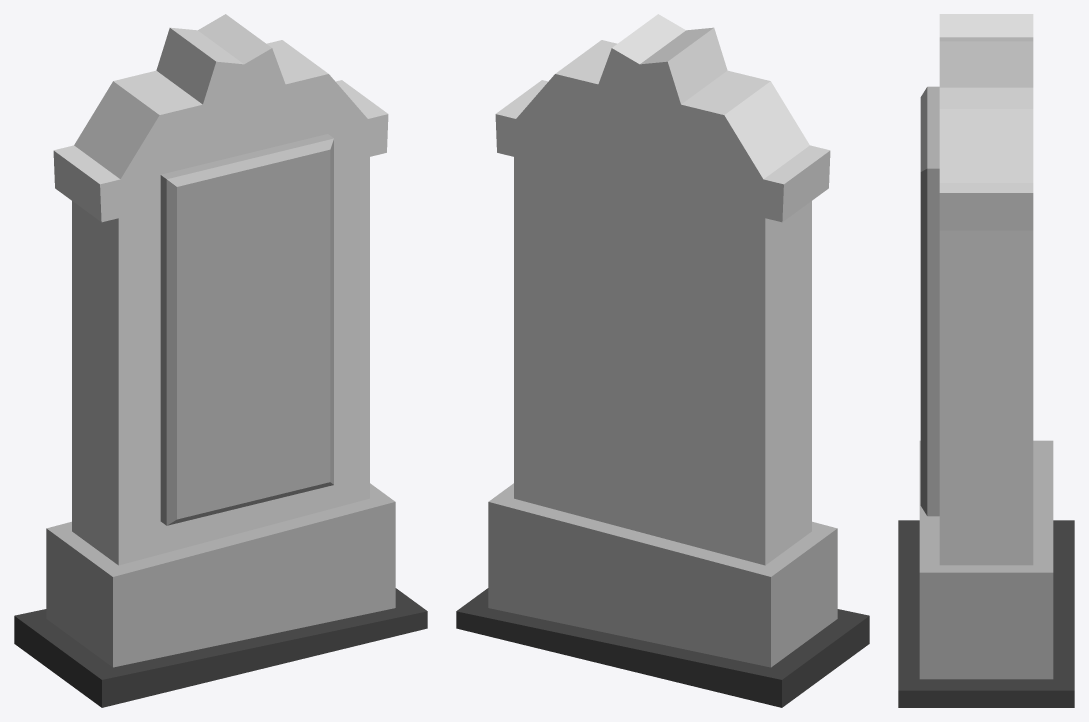
The model's file is HWN20_Grave_04.glb.
The picture shows the model from 3 angles, left to right: view 1: azimuth 30°, elevation 25°; view 2: azimuth 150°, elevation 25°; view 3: azimuth 270°, elevation 25°; orthographic projection.
Parts seen in each view (by area): view 1: HWN20_Grave_04; view 2: HWN20_Grave_04; view 3: HWN20_Grave_04.
Part boxes in pixels (left/top/right/bottom): HWN20_Grave_04: left=14, top=14, right=427, bottom=707; HWN20_Grave_04: left=456, top=14, right=869, bottom=707; HWN20_Grave_04: left=898, top=14, right=1074, bottom=707.
Size of what is drawn, in the model's own units: 0.9895 by 1.74 by 0.4619.
Materials: 1 (1 with a texture image).
